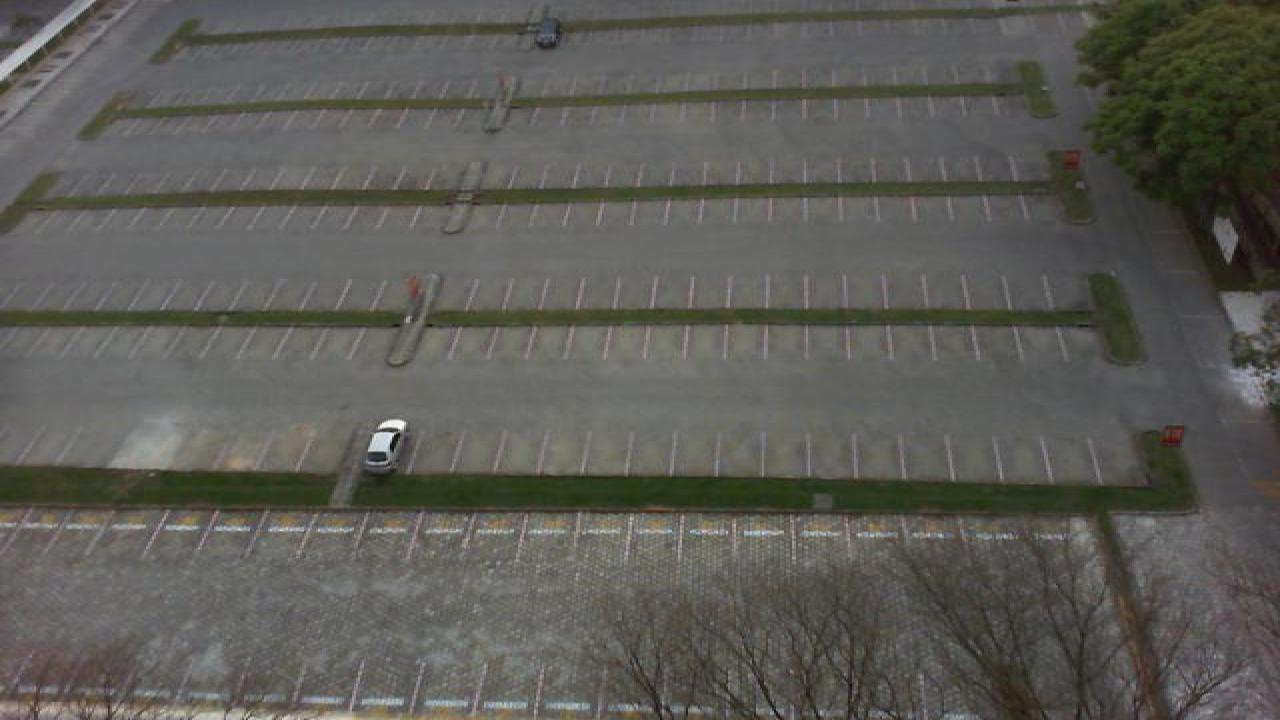Car: (360, 417, 410, 475), (528, 16, 560, 50)
